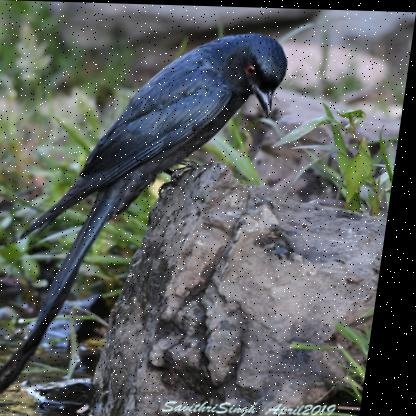Burung: (0, 26, 294, 407)
